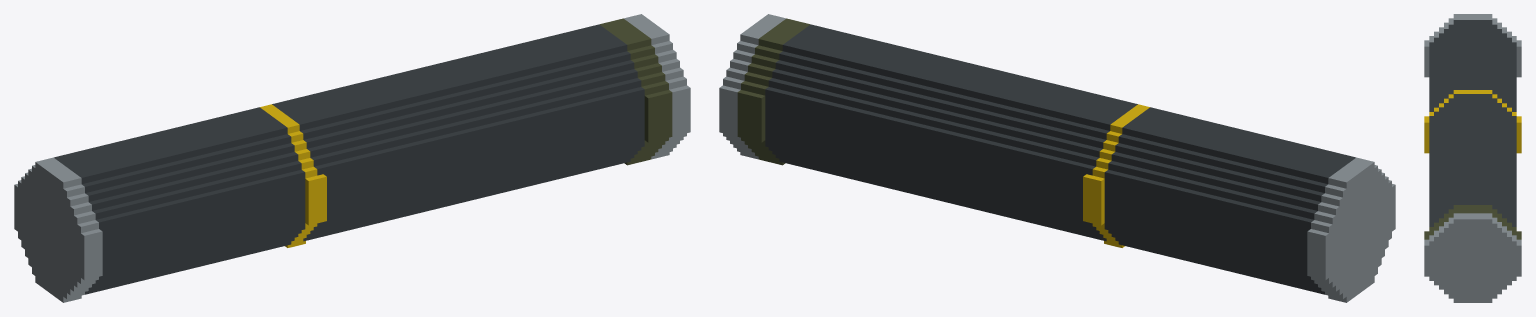
The model's file is ammunition_tube_mortar.glb.
The picture shows the model from 3 angles, left to right: view 1: azimuth 30°, elevation 25°; view 2: azimuth 150°, elevation 25°; view 3: azimuth 270°, elevation 25°; orthographic projection. The views are drawn at different scales.
Visible parts, largest first — view 1: ammunition_tube_mortar:compound; view 2: ammunition_tube_mortar:compound; view 3: ammunition_tube_mortar:compound.
Boxes of the visible parts, bbox=[...] form: ammunition_tube_mortar:compound: bbox=[14, 14, 690, 302]; ammunition_tube_mortar:compound: bbox=[719, 14, 1395, 302]; ammunition_tube_mortar:compound: bbox=[1424, 14, 1521, 302].
Bounding box in the file's own units: 0.4 × 0.076 × 0.08.
